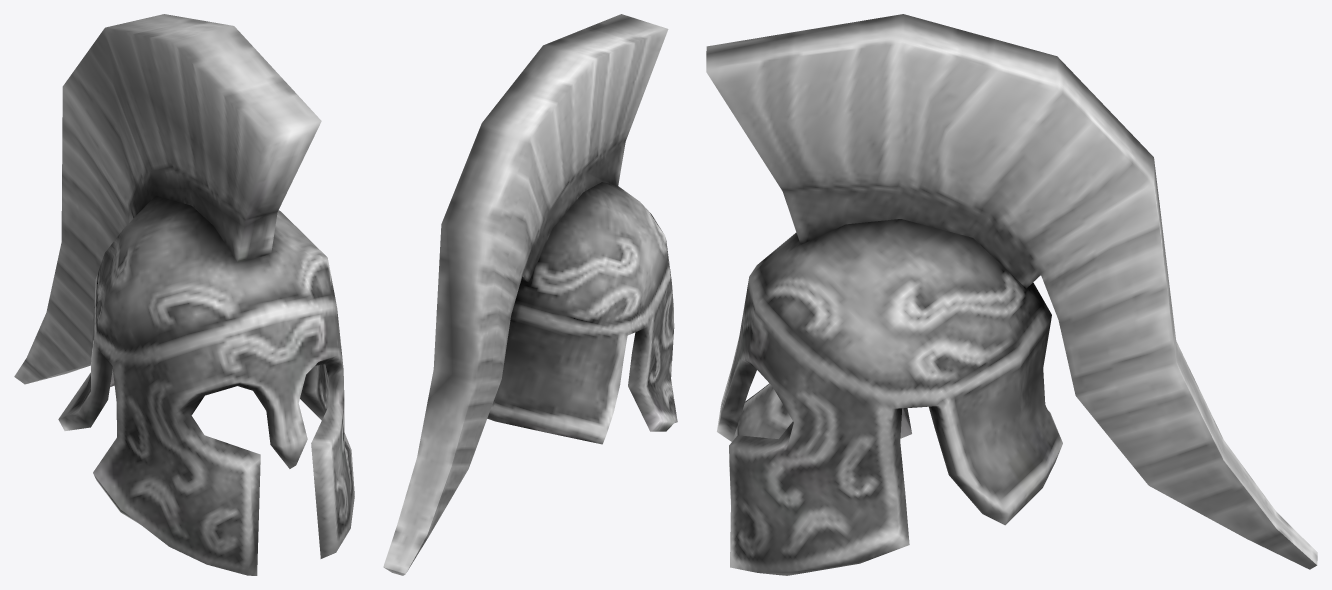
Rendered from helmet-championinfantry.glb.
The picture shows the model from 3 angles, left to right: view 1: azimuth 30°, elevation 25°; view 2: azimuth 150°, elevation 25°; view 3: azimuth 270°, elevation 25°; orthographic projection. The views are drawn at different scales.
Size of the model in its own units: 0.2711 by 0.532 by 0.555.
1 material, 1 textured.
